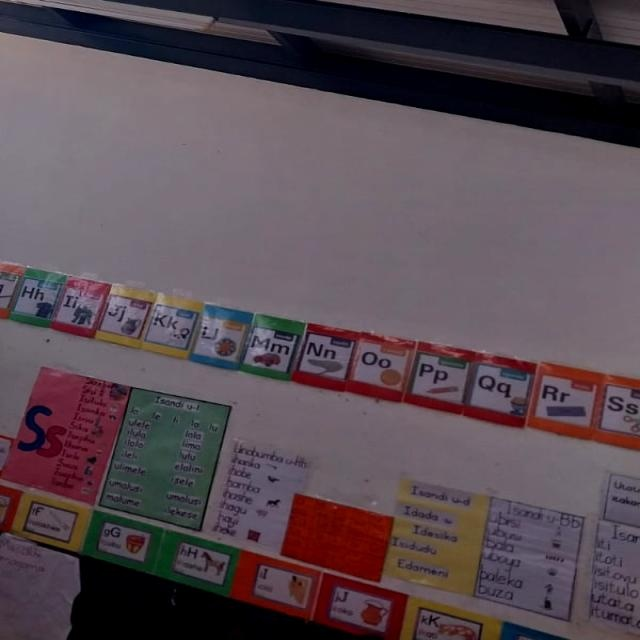fluorescent tube: (0, 0, 237, 58)
